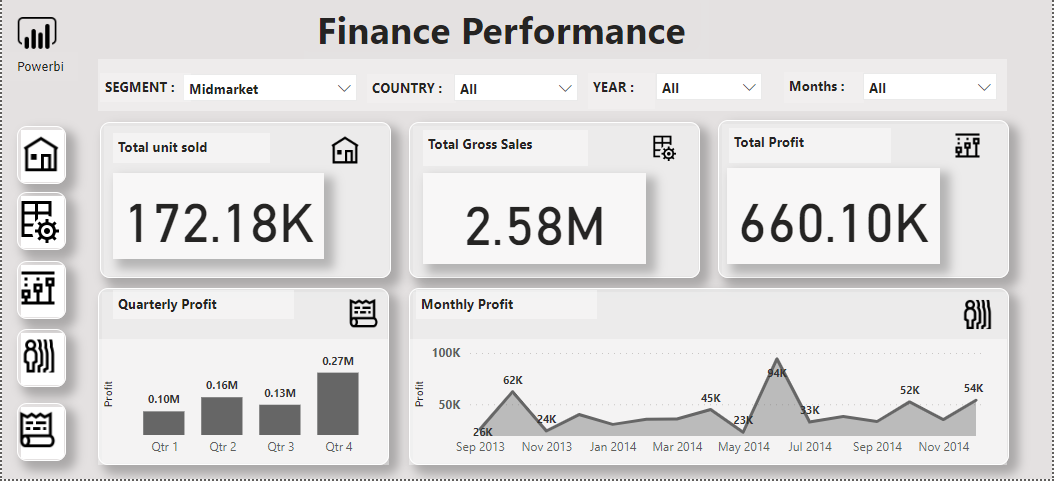

Layout of this report page (visuals, bound fields, positions):
{"tool":"powerbi","page":{"name":"Page 1","canvas":[1050,480],"ordinal":0},"visuals":[{"type":"shape","box":[15,127,49,58],"z":0},{"type":"shape","box":[15,193,49,58],"z":1000},{"type":"shape","box":[15,262,49,58],"z":2000},{"type":"shape","box":[15,330,49,58],"z":3000},{"type":"shape","box":[15,404,49,58],"z":4000},{"type":"image","box":[9,7,53,53],"z":5000},{"type":"image","box":[4,403,60,56],"z":6000},{"type":"image","box":[1,191,63,58],"z":7000},{"type":"image","box":[0,260,71,58],"z":8000},{"type":"image","box":[7,127,63,56],"z":9000},{"type":"image","box":[7,330,60,54],"z":10000},{"type":"textbox","box":[1,53,75,29],"z":11000},{"type":"textbox","box":[302,0,405,61],"z":12000},{"type":"shape","box":[96,60,909,52],"z":13000},{"type":"shape","box":[98,123,291,156],"z":14000},{"type":"shape","box":[407,123,291,156],"z":15000},{"type":"shape","box":[716,121,291,158],"z":16000},{"type":"shape","box":[96,289,291,177],"z":17000},{"type":"shape","box":[407,289,600,177],"z":18000},{"type":"slicer","fields":{"Values":["financials.Segment"]},"box":[171,65,194,42],"z":19000},{"type":"textbox","box":[98,74,91,29],"z":20000},{"type":"textbox","box":[365,75,89,29],"z":21000},{"type":"slicer","fields":{"Values":["financials.Country"]},"box":[442,65,144,41],"z":22000},{"type":"textbox","box":[586,74,67,36],"z":23000},{"type":"slicer","fields":{"Values":["financials.Year"]},"box":[644,64,126,42],"z":24000},{"type":"textbox","box":[782,73,80,31],"z":25000},{"type":"slicer","fields":{"Values":["financials.Month Name"]},"box":[851,64,154,46],"z":26000},{"type":"card","fields":{"Values":["Sum(financials.Units Sold)"]},"box":[111,174,211,86],"z":27000},{"type":"textbox","box":[111,134,157,30],"z":28000},{"type":"image","box":[299,128,88,46],"z":29000},{"type":"card","fields":{"Values":["Sum(financials.Gross Sales)"]},"box":[421,174,223,91],"z":30000},{"type":"textbox","box":[421,131,165,36],"z":31000},{"type":"image","box":[636,128,47,39],"z":32000},{"type":"card","fields":{"Values":["Sum(financials.Profit)"]},"box":[725,169,213,96],"z":33000},{"type":"textbox","box":[727,129,162,35],"z":34000},{"type":"image","box":[938,124,54,45],"z":35000},{"type":"clusteredColumnChart","fields":{"Y":["Sum(financials.Profit)"],"Category":["financials.Date.Variation.Date Hierarchy.Quarter"]},"box":[96,340,291,126],"z":35001},{"type":"textbox","box":[414,291,181,29],"z":35002},{"type":"textbox","box":[111,291,181,29],"z":35003},{"type":"areaChart","fields":{"Category":["financials.Date.Variation.Date Hierarchy.Year","financials.Date.Variation.Date Hierarchy.Month"],"Y":["Sum(financials.Profit)"]},"box":[407,340,598,126],"z":35004},{"type":"image","box":[946,291,59,49],"z":35005},{"type":"image","box":[334,291,53,47],"z":35006}]}

Visuals, with their boxes on the page's 1050x480 design canvas (x1, y1, x2, y2). These are canvas units, not pixel positions in the 1054x481 screenshot, which may show the page scaled, cropped or inside an application window:
shape: (x1=15, y1=127, x2=64, y2=185)
shape: (x1=15, y1=193, x2=64, y2=251)
shape: (x1=15, y1=262, x2=64, y2=320)
shape: (x1=15, y1=330, x2=64, y2=388)
shape: (x1=15, y1=404, x2=64, y2=462)
image: (x1=9, y1=7, x2=62, y2=60)
image: (x1=4, y1=403, x2=64, y2=459)
image: (x1=1, y1=191, x2=64, y2=249)
image: (x1=0, y1=260, x2=71, y2=318)
image: (x1=7, y1=127, x2=70, y2=183)
image: (x1=7, y1=330, x2=67, y2=384)
textbox: (x1=1, y1=53, x2=76, y2=82)
textbox: (x1=302, y1=0, x2=707, y2=61)
shape: (x1=96, y1=60, x2=1005, y2=112)
shape: (x1=98, y1=123, x2=389, y2=279)
shape: (x1=407, y1=123, x2=698, y2=279)
shape: (x1=716, y1=121, x2=1007, y2=279)
shape: (x1=96, y1=289, x2=387, y2=466)
shape: (x1=407, y1=289, x2=1007, y2=466)
slicer - financials.Segment: (x1=171, y1=65, x2=365, y2=107)
textbox: (x1=98, y1=74, x2=189, y2=103)
textbox: (x1=365, y1=75, x2=454, y2=104)
slicer - financials.Country: (x1=442, y1=65, x2=586, y2=106)
textbox: (x1=586, y1=74, x2=653, y2=110)
slicer - financials.Year: (x1=644, y1=64, x2=770, y2=106)
textbox: (x1=782, y1=73, x2=862, y2=104)
slicer - financials.Month Name: (x1=851, y1=64, x2=1005, y2=110)
card - Sum(financials.Units Sold): (x1=111, y1=174, x2=322, y2=260)
textbox: (x1=111, y1=134, x2=268, y2=164)
image: (x1=299, y1=128, x2=387, y2=174)
card - Sum(financials.Gross Sales): (x1=421, y1=174, x2=644, y2=265)
textbox: (x1=421, y1=131, x2=586, y2=167)
image: (x1=636, y1=128, x2=683, y2=167)
card - Sum(financials.Profit): (x1=725, y1=169, x2=938, y2=265)
textbox: (x1=727, y1=129, x2=889, y2=164)
image: (x1=938, y1=124, x2=992, y2=169)
clusteredColumnChart - Sum(financials.Profit) x financials.Date.Variation.Date Hierarchy.Quarter: (x1=96, y1=340, x2=387, y2=466)
textbox: (x1=414, y1=291, x2=595, y2=320)
textbox: (x1=111, y1=291, x2=292, y2=320)
areaChart - financials.Date.Variation.Date Hierarchy.Year x financials.Date.Variation.Date Hierarchy.Month: (x1=407, y1=340, x2=1005, y2=466)
image: (x1=946, y1=291, x2=1005, y2=340)
image: (x1=334, y1=291, x2=387, y2=338)
